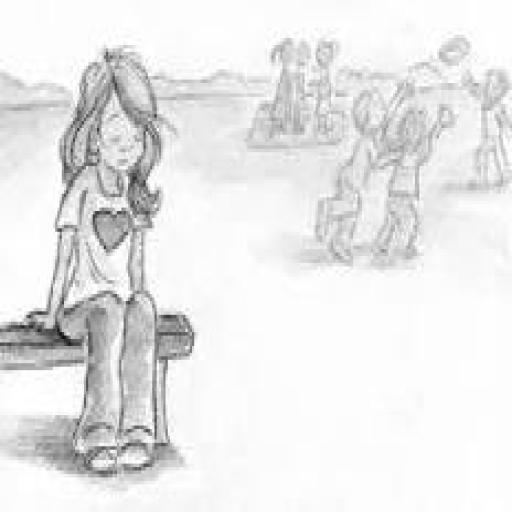person: (25, 44, 165, 500), (310, 89, 392, 274), (370, 101, 452, 268), (470, 58, 510, 195)
